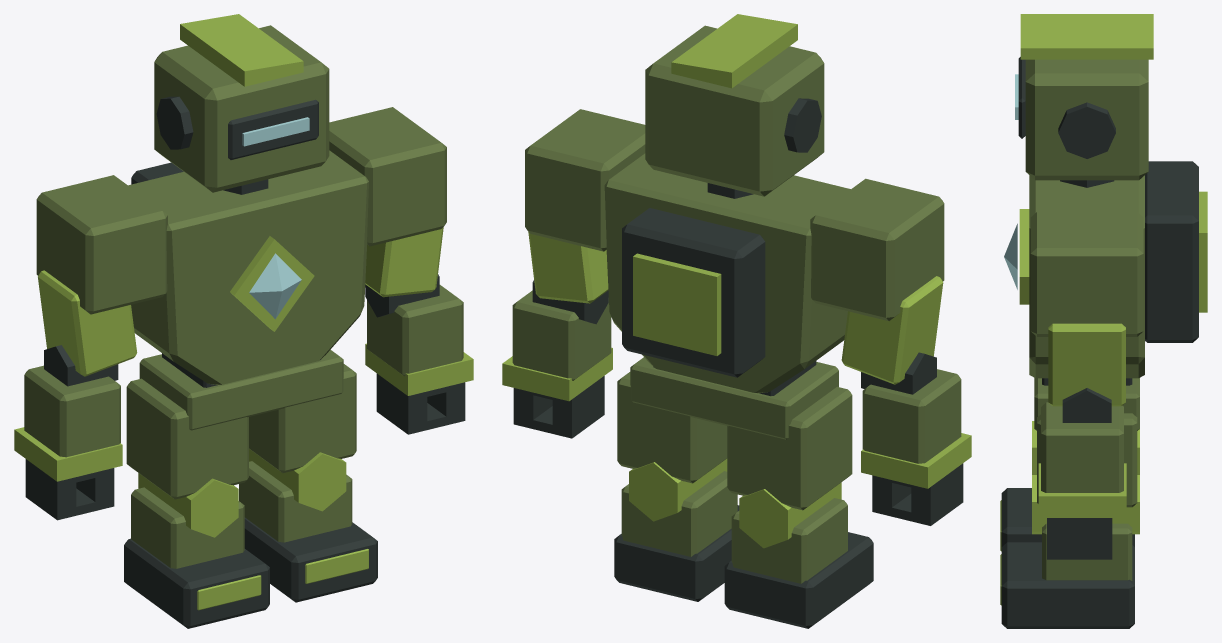
3 views of the same model, side by side, from view 1: azimuth 30°, elevation 25°; view 2: azimuth 150°, elevation 25°; view 3: azimuth 270°, elevation 25° (orthographic). The views are drawn at different scales.
Parts seen in each view (by area): view 1: Tronco, Cabeça de avatar, Ombro, Ombro.001, Coxa.001, Quadril, Bota.001, Antebraço.001, Coxa, Antebraço, Braço.001, Bota (+19 smaller); view 2: Tronco, Cabeça de avatar, Ombro, Mochila, Ombro.001, Coxa.001, Quadril, Painel da mochila, Bota.001, Antebraço.001, Coxa, Braço.001 (+15 smaller); view 3: Ombro.001, Cabeça de avatar, Mochila, Bota, Antebraço, Crista do capacete, Braço, Tronco, Canela, Mão de avatar.001, Conector lateral.001, Punho.001 (+10 smaller).
Part boxes in pixels (x1,y1,x2,y2): Tronco: (128, 150, 368, 384); Cabeça de avatar: (154, 25, 329, 192); Ombro: (36, 175, 167, 314); Ombro.001: (329, 107, 446, 246); Coxa.001: (126, 378, 248, 499); Quadril: (139, 350, 343, 430); Bota.001: (124, 538, 269, 628); Antebraço.001: (24, 365, 120, 457); Coxa: (249, 364, 356, 472); Antebraço: (367, 285, 463, 376); Braço.001: (38, 270, 137, 376); Bota: (244, 517, 377, 602); Tronco: (604, 153, 850, 393); Cabeça de avatar: (645, 25, 824, 196); Ombro: (810, 178, 944, 320); Mochila: (622, 208, 765, 377); Ombro.001: (525, 109, 645, 251); Coxa.001: (727, 386, 852, 510); Quadril: (630, 357, 838, 439); Painel da mochila: (633, 253, 721, 355); Bota.001: (724, 532, 873, 628); Antebraço.001: (862, 369, 961, 463); Coxa: (617, 372, 727, 483); Braço.001: (841, 276, 943, 384); Ombro.001: (1030, 212, 1143, 336); Cabeça de avatar: (1025, 59, 1148, 180); Mochila: (1145, 161, 1198, 342); Bota: (1001, 542, 1134, 628); Antebraço: (1041, 402, 1123, 492); Crista do capacete: (1020, 14, 1153, 59); Braço: (1048, 323, 1125, 406); Tronco: (1029, 175, 1144, 378); Canela: (1042, 523, 1132, 580); Mão de avatar.001: (1047, 518, 1112, 559); Conector lateral.001: (1058, 102, 1115, 158); Punho.001: (1038, 463, 1126, 517).
Size of the model in its own units: 1.97 by 2.43 by 0.824.
